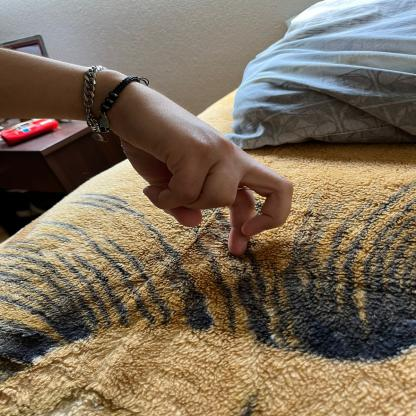P: (95, 69, 293, 259)
